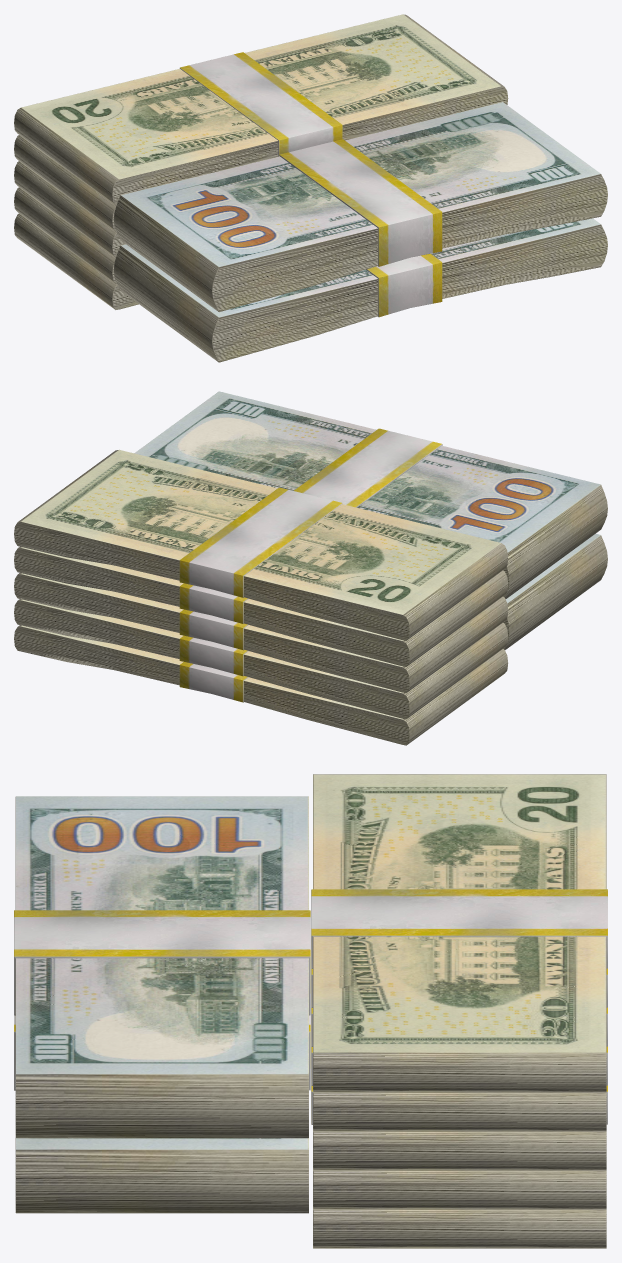
3 renders of one model, top to bottom at view 1: azimuth 30°, elevation 25°; view 2: azimuth 150°, elevation 25°; view 3: azimuth 270°, elevation 25°, orthographic. The views are drawn at different scales.
Parts seen in each view (by area): view 1: stacks of money.001, stacks of money.002, stacks of money; view 2: stacks of money.001, stacks of money.002, stacks of money; view 3: stacks of money.001, stacks of money.002, stacks of money.
Part boxes in pixels (x1,y1,x2,y2): stacks of money.001: [14, 14, 508, 309]; stacks of money.002: [113, 102, 607, 311]; stacks of money: [113, 218, 607, 362]; stacks of money.001: [14, 449, 508, 745]; stacks of money.002: [134, 391, 607, 598]; stacks of money: [503, 533, 607, 649]; stacks of money.001: [311, 774, 607, 1248]; stacks of money.002: [14, 796, 310, 1138]; stacks of money: [14, 1015, 310, 1213].
Size of the model in its own units: 2.64 by 0.8344 by 2.3.
2 materials, 2 textured.
